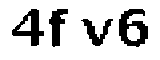4: (8, 7, 46, 49)
6: (116, 5, 153, 50)
f: (48, 6, 72, 50)
v: (78, 14, 115, 48)
